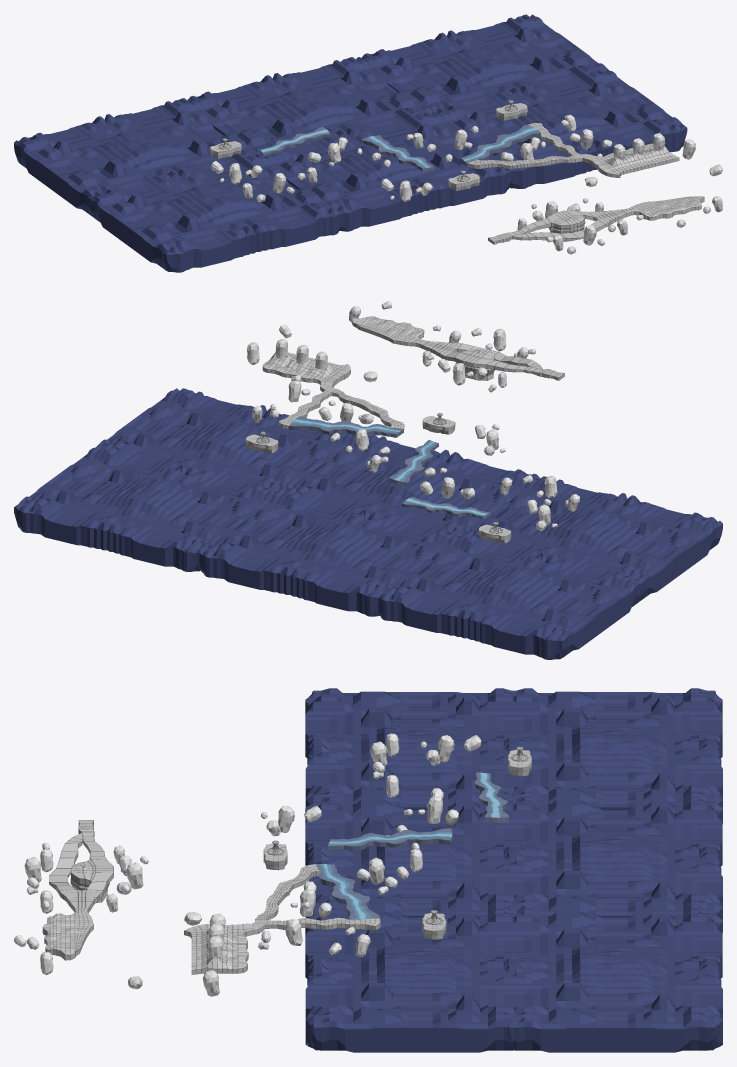
File: A4_All.fbx
The picture shows the model from 3 angles, top to bottom: view 1: azimuth 30°, elevation 25°; view 2: azimuth 150°, elevation 25°; view 3: azimuth 270°, elevation 25°; orthographic projection. The views are drawn at different scales.
Parts seen in each view (by area): view 1: A4_Base.004, A4_Base.015, A4_Base.007, A4_Base.005, A4_Base.008, A4_Base.010, A4_Base.011, A4_Base.013, A4_Base.012, A4_Base.006, A4_Base.009, A4_Base.014 (+8 smaller); view 2: A4_Base.015, A4_Base.010, A4_Base.004, A4_Base.012, A4_Base.011, A4_Base.013, A4_Base.014, A4_Base.008, A4_Base.009, A4_Base.006, A4_Base.007, A4_Base.005 (+7 smaller); view 3: A4_Base.008, A4_Base.011, A4_Base.013, A4_Base.014, A4_Base.004, A4_Base.015, A4_Base.010, A4_Base.012, A4_Base.005, A4_Base.006, A4_Base.009, A4_Base.007 (+8 smaller).
Boxes of the visible parts, box(x1,y1,x2,y2) form: A4_Base.004: box(88, 170, 256, 272); A4_Base.015: box(14, 116, 179, 216); A4_Base.007: box(264, 129, 424, 231); A4_Base.005: box(179, 152, 340, 251); A4_Base.008: box(521, 69, 687, 156); A4_Base.010: box(359, 32, 522, 112); A4_Base.011: box(447, 14, 608, 94); A4_Base.013: box(273, 57, 433, 136); A4_Base.012: box(187, 75, 348, 154); A4_Base.006: box(347, 111, 512, 210); A4_Base.009: box(434, 87, 598, 188); A4_Base.014: box(104, 98, 262, 177); A4_Base.015: box(468, 552, 644, 659); A4_Base.010: box(107, 464, 280, 571); A4_Base.004: box(548, 495, 722, 600); A4_Base.012: box(290, 509, 460, 616); A4_Base.011: box(14, 446, 187, 550); A4_Base.013: box(197, 491, 371, 594); A4_Base.014: box(378, 534, 548, 638); A4_Base.008: box(96, 388, 266, 472); A4_Base.009: box(187, 408, 355, 491); A4_Base.006: box(280, 435, 450, 516); A4_Base.007: box(371, 452, 540, 535); A4_Base.005: box(459, 476, 627, 560); A4_Base.008: box(305, 956, 527, 1052); A4_Base.011: box(501, 956, 722, 1052); A4_Base.013: box(501, 844, 722, 932); A4_Base.014: box(501, 736, 722, 823); A4_Base.004: box(305, 688, 527, 764); A4_Base.015: box(500, 688, 722, 758); A4_Base.010: box(500, 909, 722, 979); A4_Base.012: box(503, 796, 722, 867); A4_Base.005: box(305, 736, 524, 810); A4_Base.006: box(305, 845, 527, 918); A4_Base.009: box(305, 909, 527, 984); A4_Base.007: box(305, 796, 527, 865).
Size of the model in its own units: 15430 by 1558 by 13755.
Materials: 22 (22 with a texture image).
